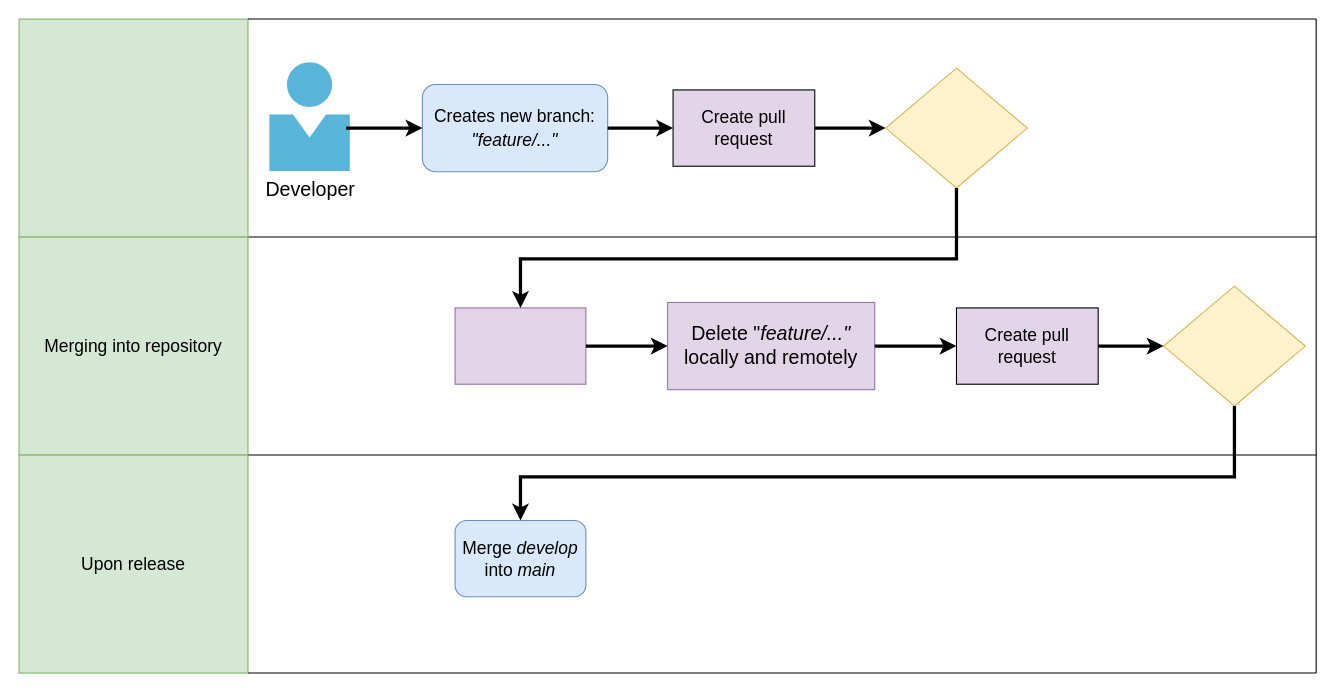
Image size: 1336x693. Some labels were removed from this diagram. Here are the shapes that lost their labels. From the top down, the centre of each, then its label:
At (133,127): "Local development".
At (956,127): "Is it at least one approval?".
At (520,345): "Merge into develop".
At (1233,345): "Is it at least two approvals?".
